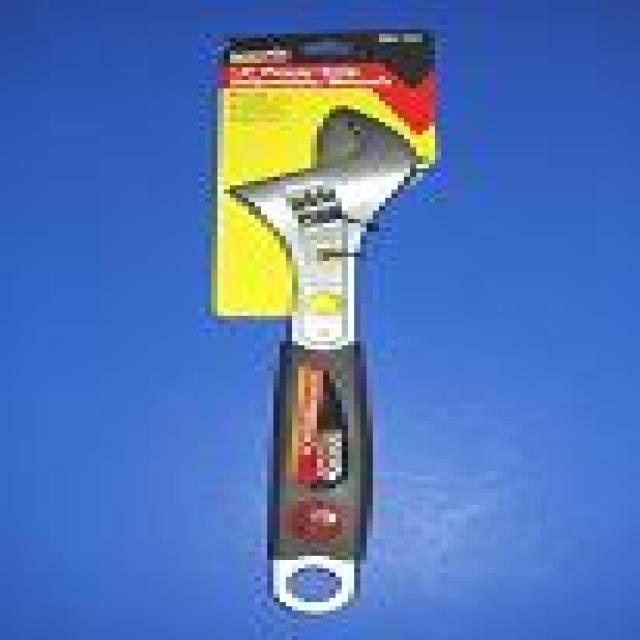wrench: (231, 99, 457, 616)
